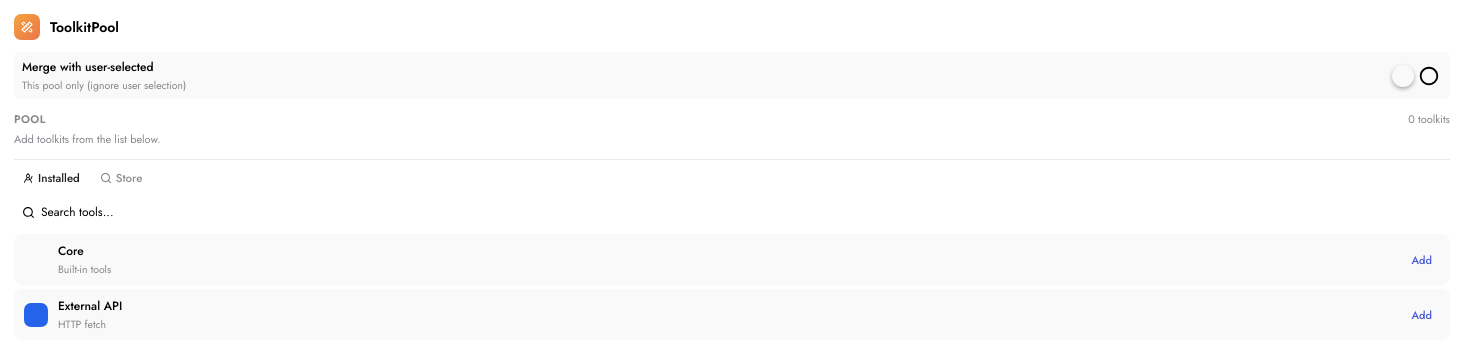
Scenario: ToolPoolPanel — Store tab › shows the coming-soon placeholder
Expected: the text "Core" is shown, [58,242,84,260]
Click the button "Store" at (121, 178), box [92,166,150,190]
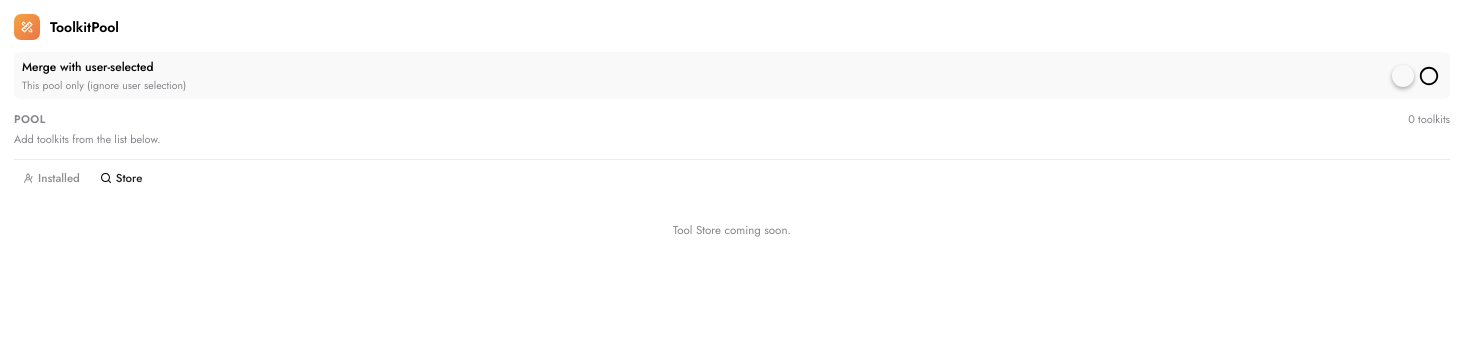
Expected: the text "Tool Store coming soon." is shown, [673,222,791,238]
